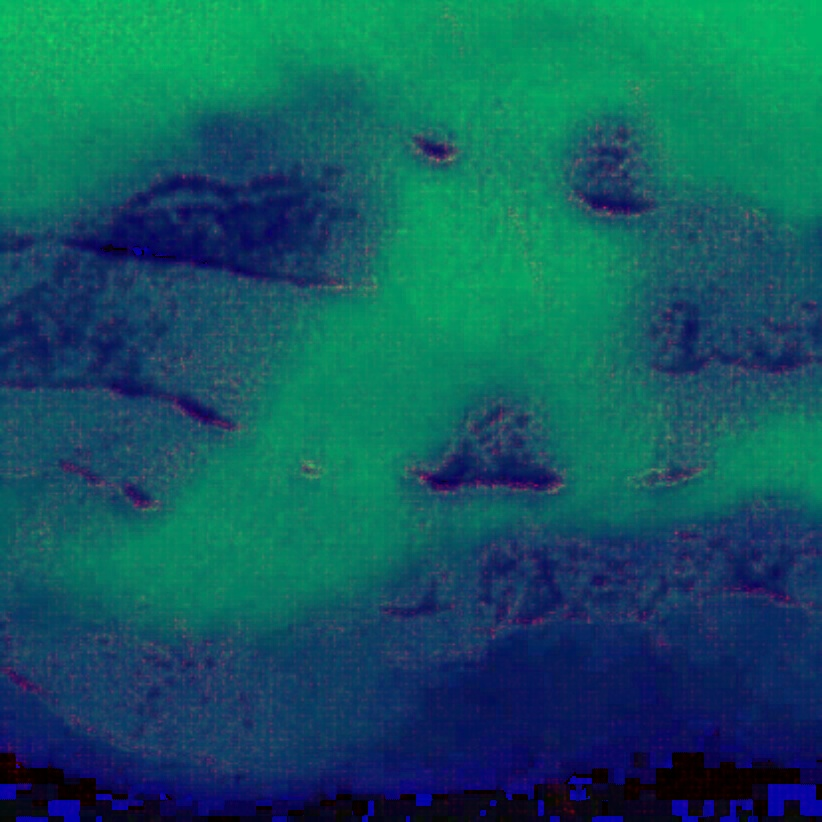rip_current: (128, 110, 695, 590)
